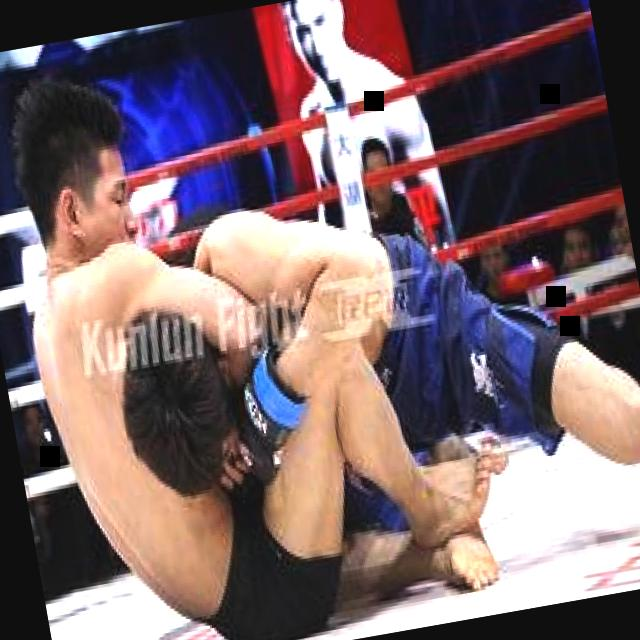Fall-Detected: (0, 57, 501, 597)
